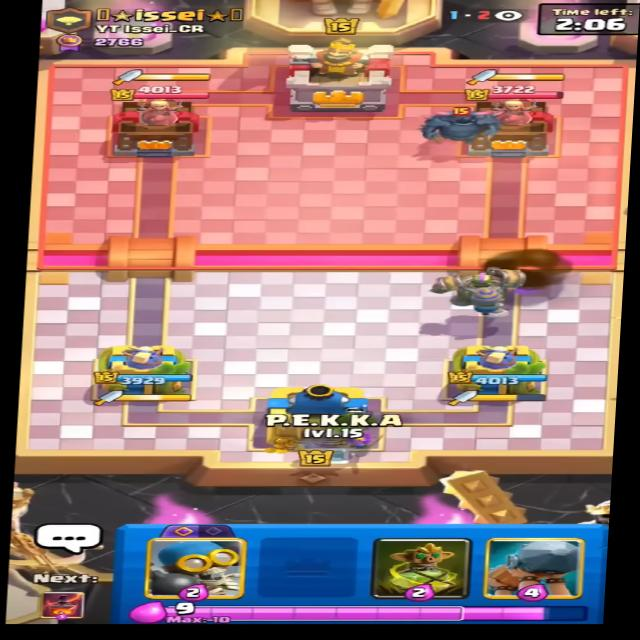pekka: (412, 96, 504, 142)
